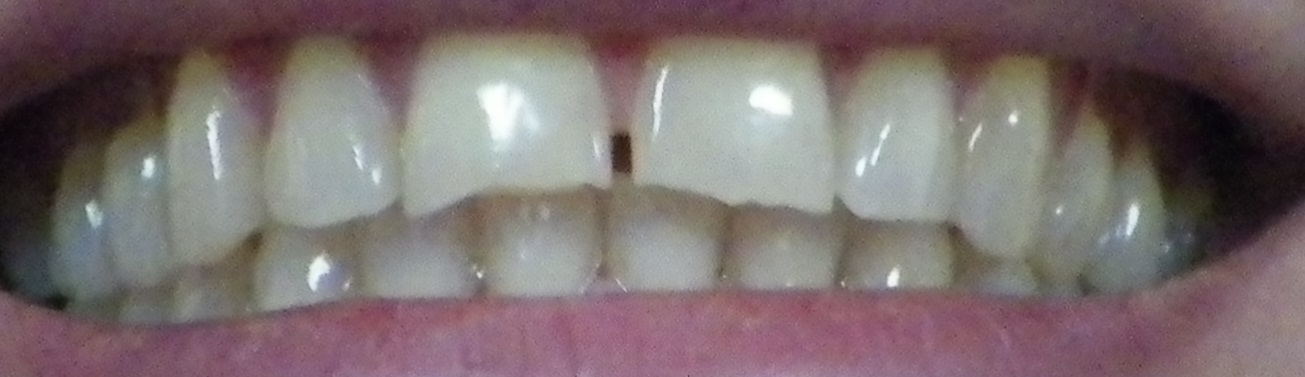boca: (31, 32, 1240, 344)
